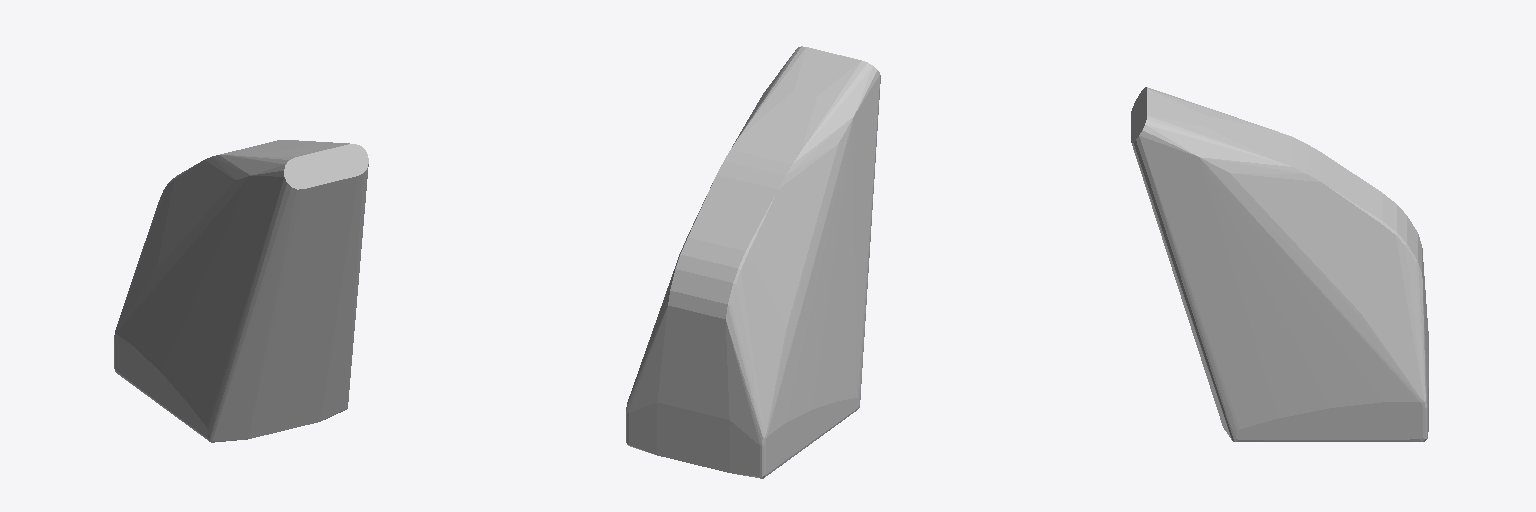
File: microscope_convex.obj
3 views of the same model, side by side, from view 1: azimuth 30°, elevation 25°; view 2: azimuth 150°, elevation 25°; view 3: azimuth 270°, elevation 25° (orthographic).
Bounding box in the file's own units: 0.2253 × 0.4767 × 0.4188.